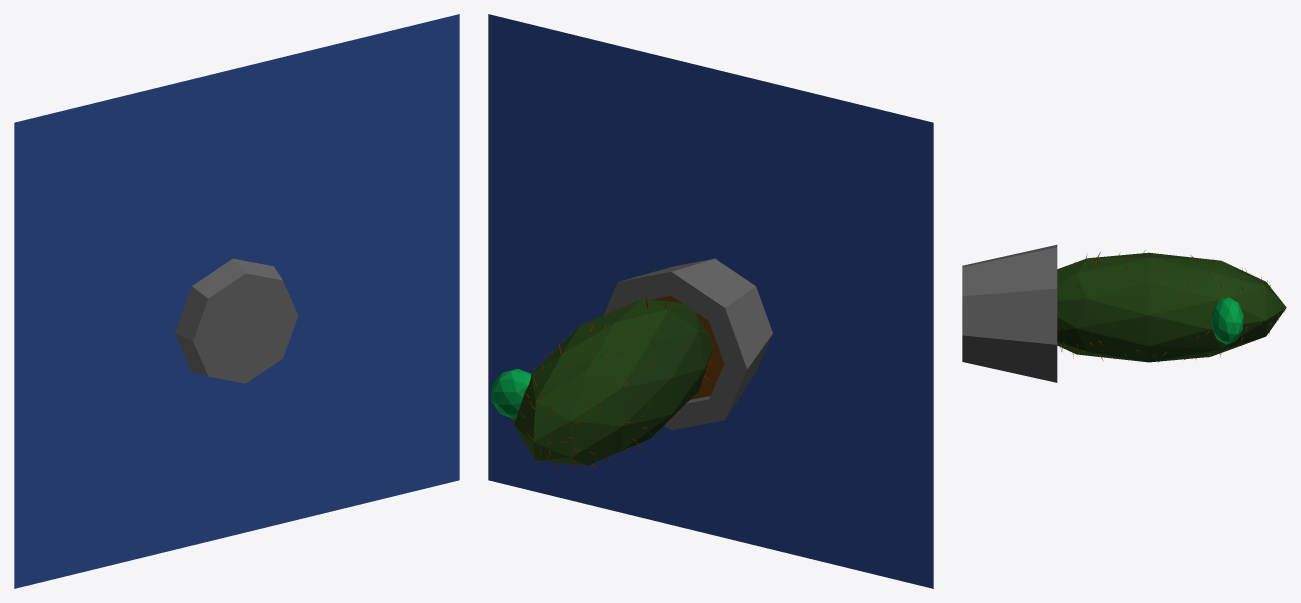
The model's file is Plant3.fbx.
3 renders of one model, left to right at view 1: azimuth 30°, elevation 25°; view 2: azimuth 150°, elevation 25°; view 3: azimuth 270°, elevation 25°, orthographic. The views are drawn at different scales.
Visible parts, largest first — view 1: Plane.292, pengzai2; view 2: Plane.292, pengzai2; view 3: pengzai2.
Boxes of the visible parts, x1=… form: Plane.292: x1=14, y1=14, x2=459, y2=588; pengzai2: x1=175, y1=258, x2=298, y2=383; Plane.292: x1=488, y1=14, x2=933, y2=588; pengzai2: x1=491, y1=258, x2=772, y2=469; pengzai2: x1=962, y1=245, x2=1286, y2=382.
Bounding box in the file's own units: 2 × 2 × 1.5.
